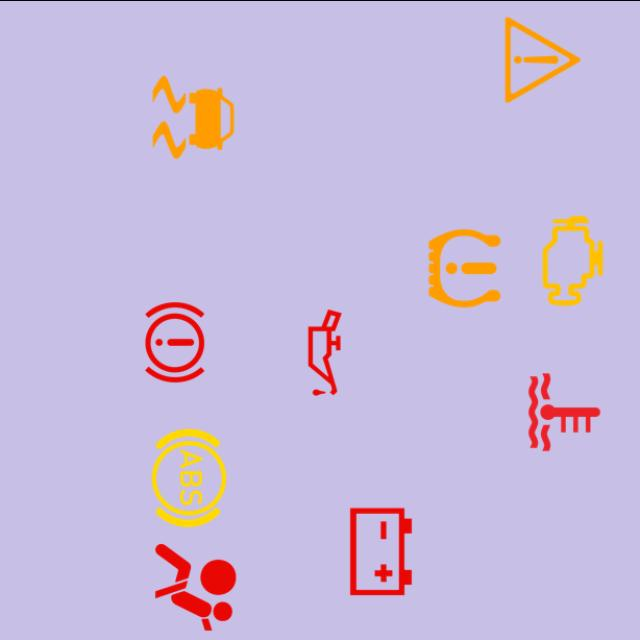Anti Lock Braking System: (135, 423, 243, 531)
Braking System Issue: (120, 288, 228, 396)
Charging System Issue: (327, 497, 435, 605)
Check Engine: (519, 206, 627, 314)
Electronic Stability Problem -ESP-: (140, 62, 248, 170)
Engine Overheating Warning Light: (511, 357, 618, 465)
Low Engine Oil Warning Light: (271, 298, 378, 406)
Low Tire Pressure Warning Light: (411, 214, 518, 322)
Master warning light: (488, 5, 596, 113)
SRS-Airbag: (141, 533, 249, 640)
